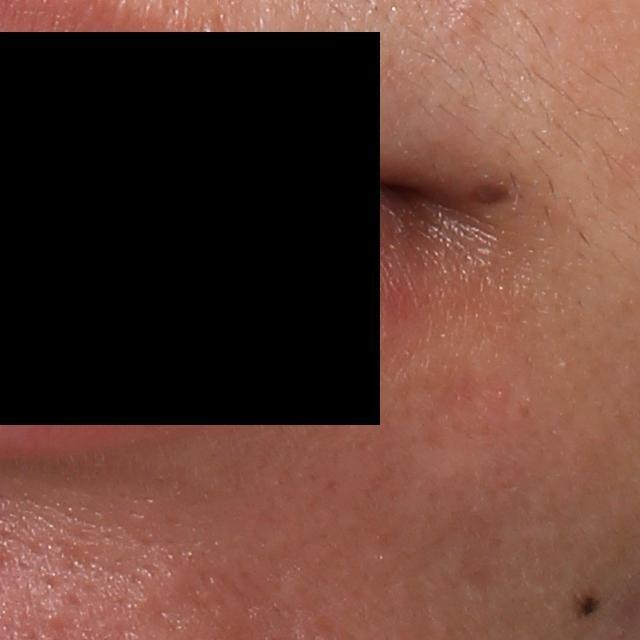nevus: (578, 595, 603, 624)
